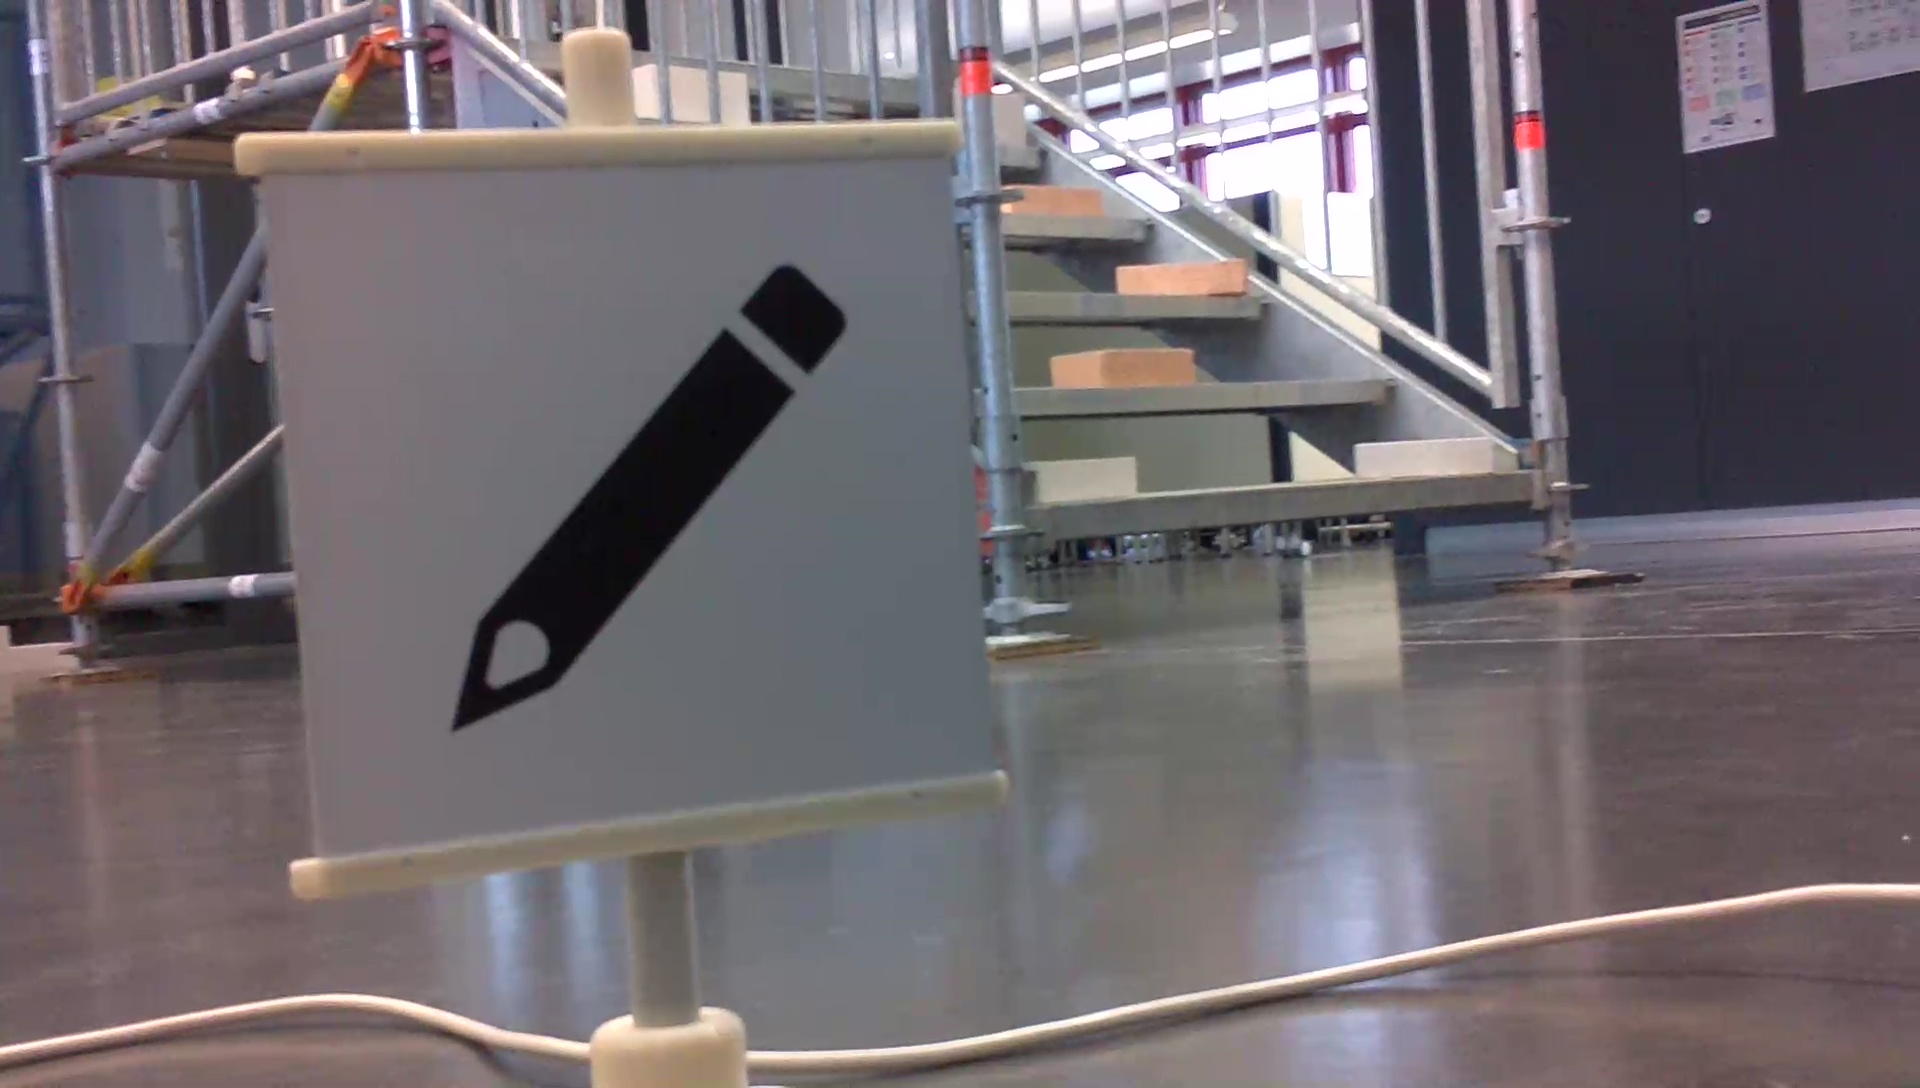brick: (1055, 349, 1191, 386), (1354, 440, 1491, 475), (1117, 257, 1245, 293), (1036, 458, 1131, 497), (1007, 186, 1100, 218), (990, 95, 1022, 145)
edge: (1048, 473, 1532, 539), (1013, 376, 1398, 413), (1007, 290, 1273, 318)
pencil: (425, 243, 858, 745)
